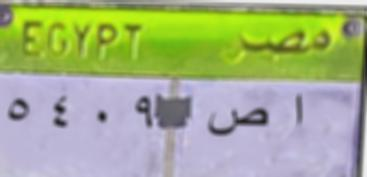0: (89, 101, 118, 132)
4: (46, 91, 82, 142)
5: (3, 94, 36, 135)
9: (130, 88, 158, 141)
alif: (285, 91, 312, 137)
saad: (208, 103, 272, 144)
